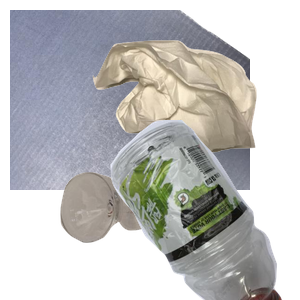cardboard: (10, 10, 250, 190)
glass: (58, 170, 202, 300)
plastic: (73, 120, 300, 300)
trash: (90, 38, 300, 183)
